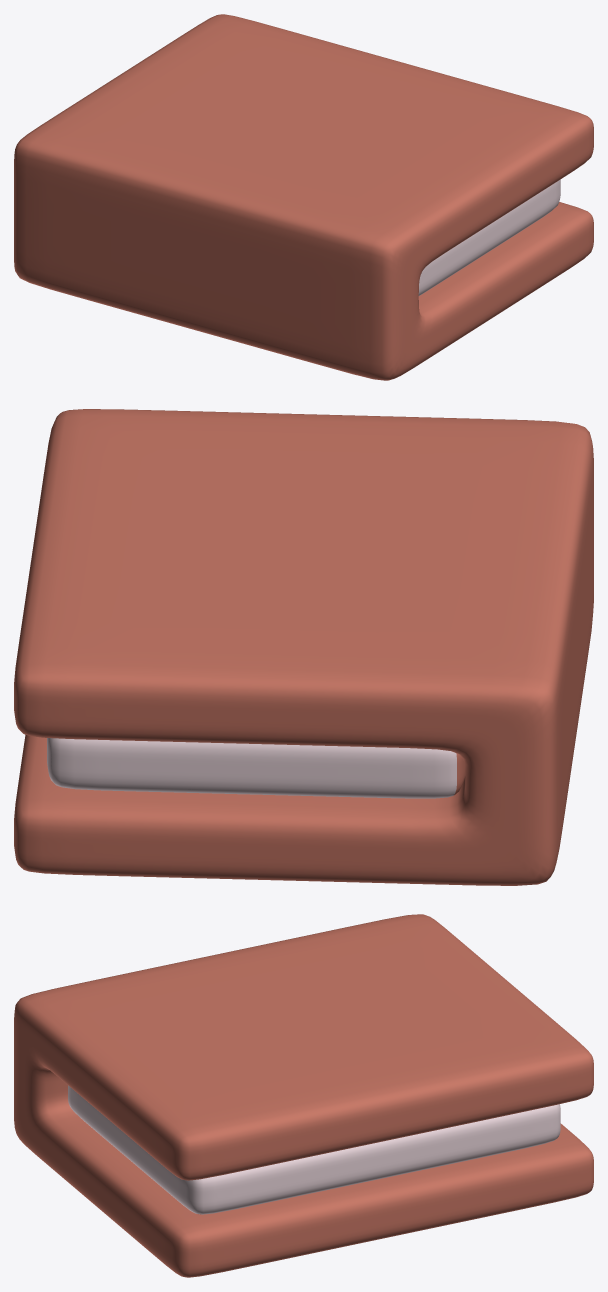
The model's file is journal-closed.glb.
The picture shows the model from 3 angles, top to bottom: view 1: azimuth 30°, elevation 25°; view 2: azimuth 150°, elevation 25°; view 3: azimuth 270°, elevation 25°; orthographic projection. The views are drawn at different scales.
Parts seen in each view (by area): view 1: journal - closed; view 2: journal - closed; view 3: journal - closed.
Boxes of the visible parts, x1=… form: journal - closed: x1=14, y1=14, x2=593, y2=380; journal - closed: x1=14, y1=409, x2=593, y2=885; journal - closed: x1=14, y1=914, x2=593, y2=1277.
Bounding box in the file's own units: 0.2612 × 0.0777 × 0.2781.
